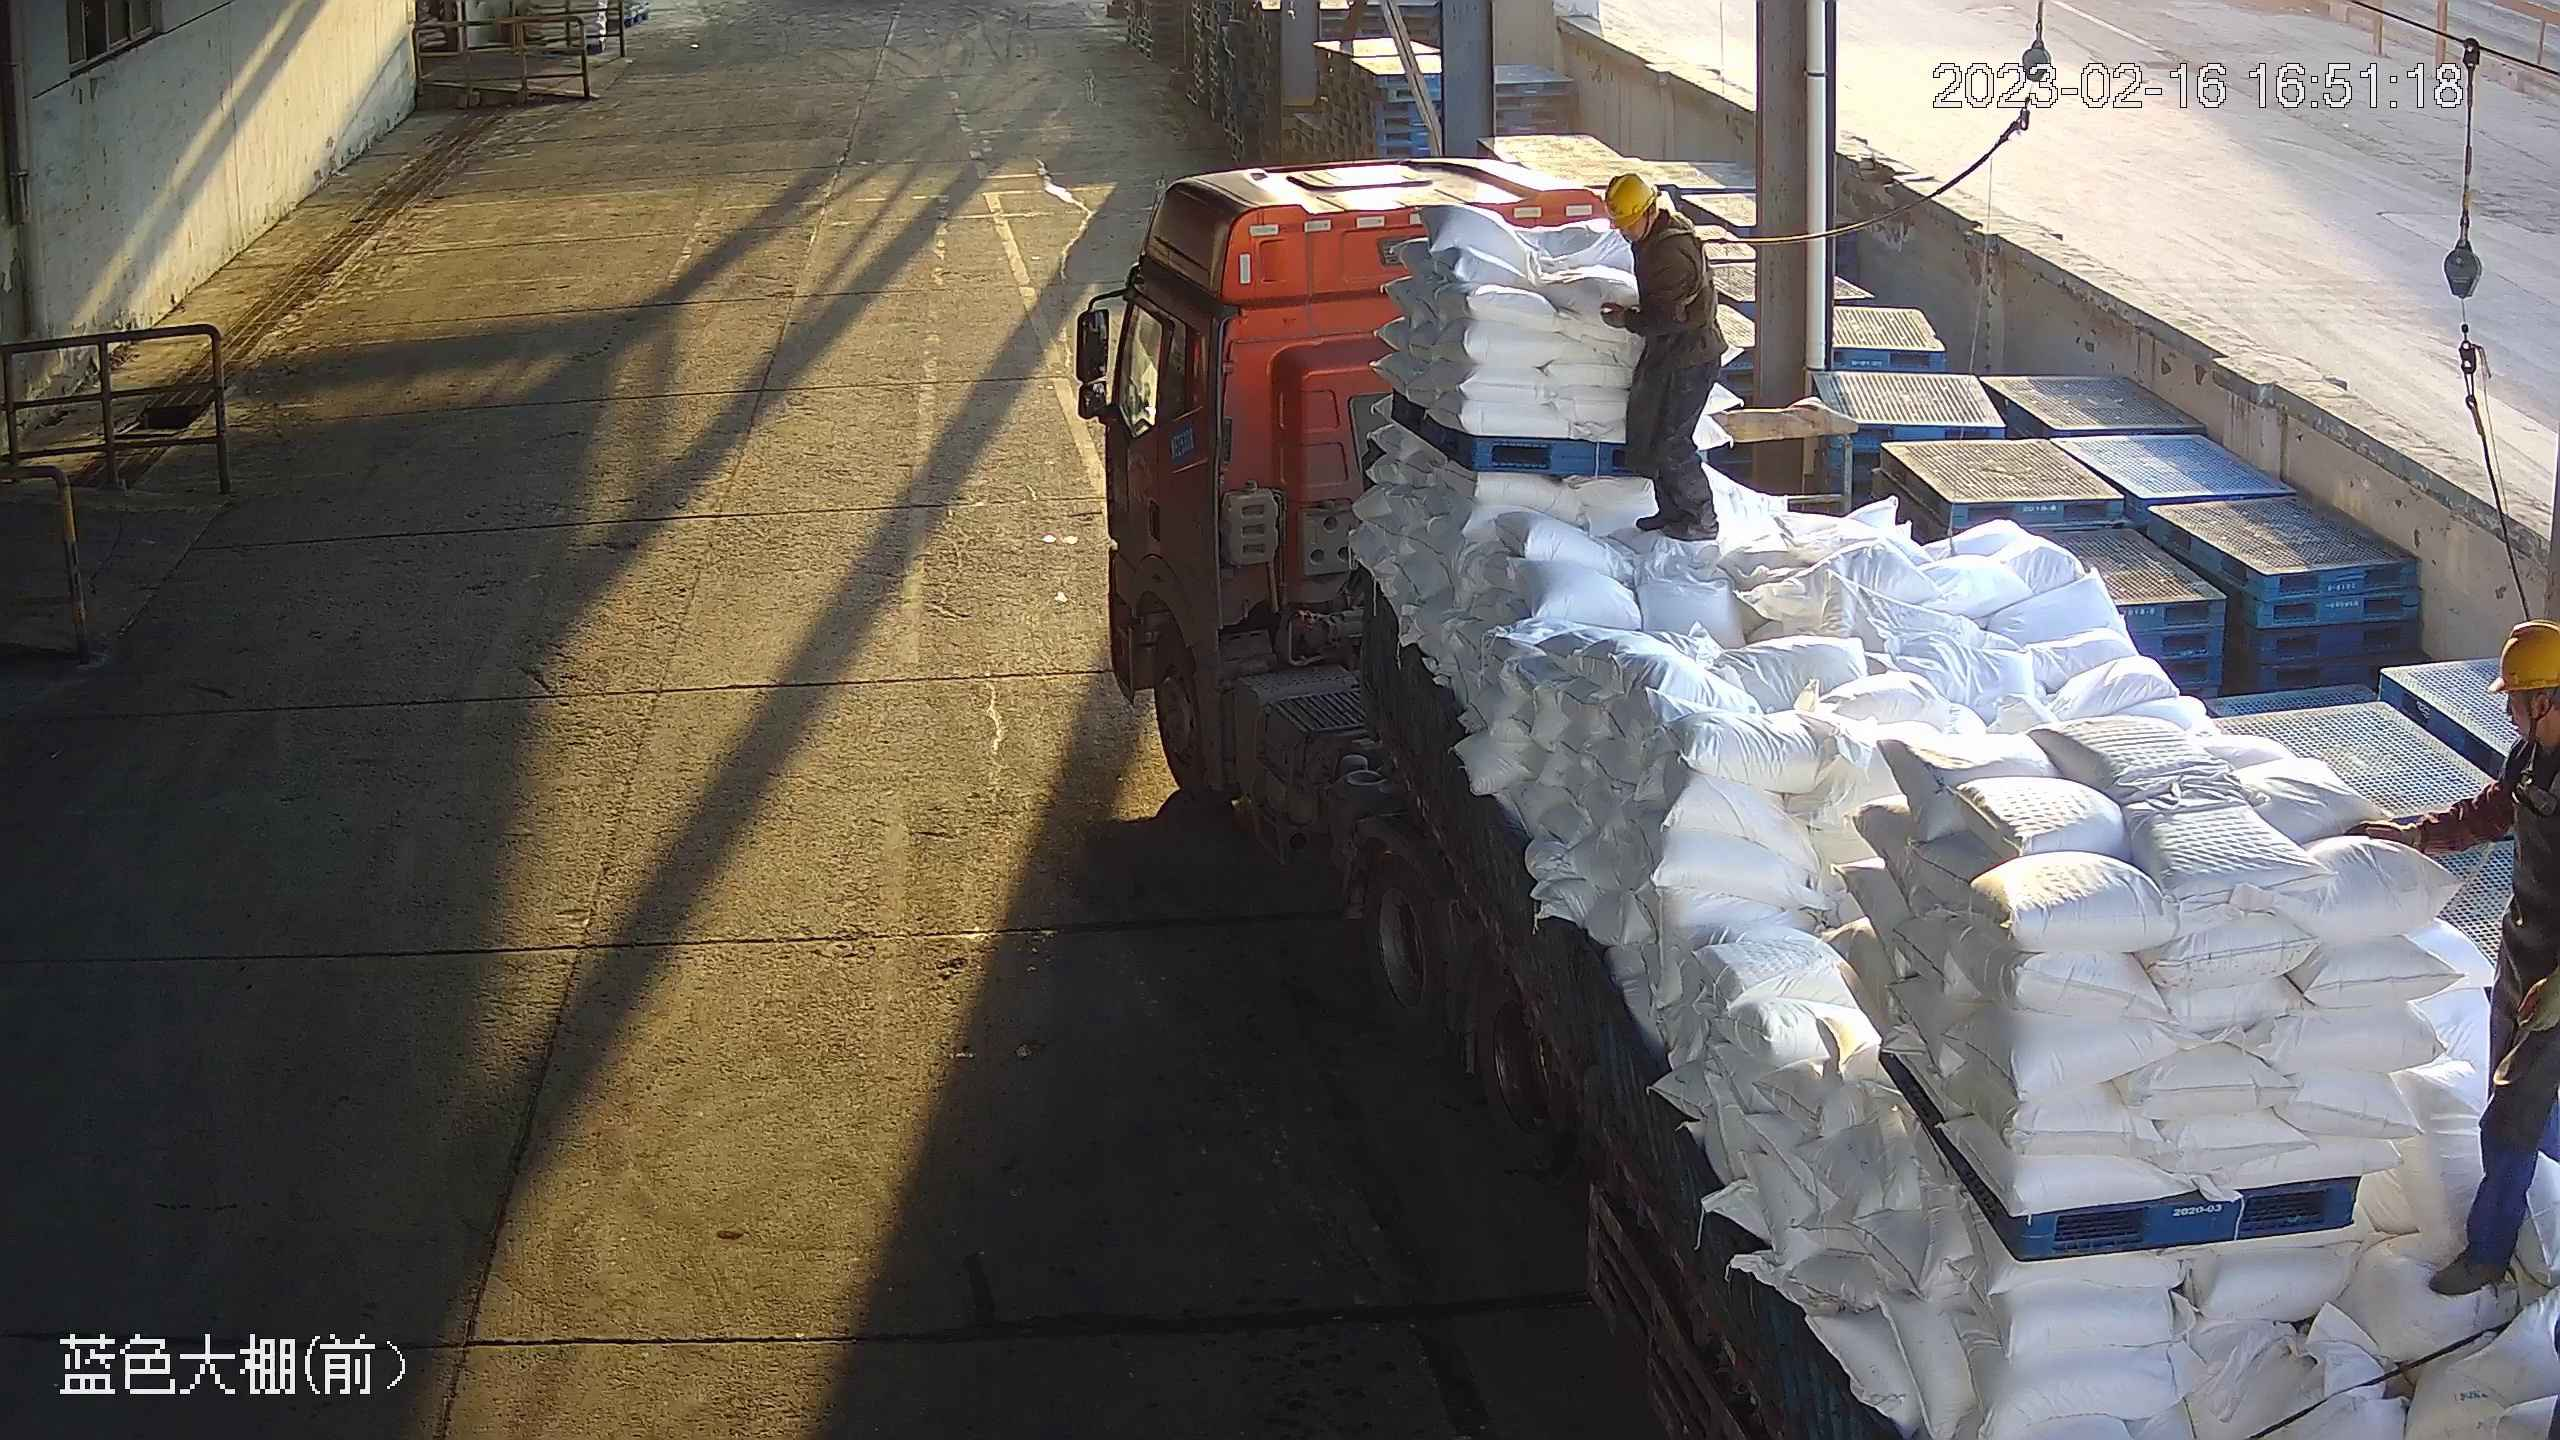belt: (1644, 211, 1713, 305), (2515, 740, 2560, 816)
head: (2489, 620, 2560, 837), (1597, 172, 1712, 280)
helmet: (2487, 622, 2560, 693), (1604, 174, 1657, 230)
people: (2345, 620, 2560, 1299), (1599, 172, 1731, 542)
truck: (1076, 157, 2560, 1440)
